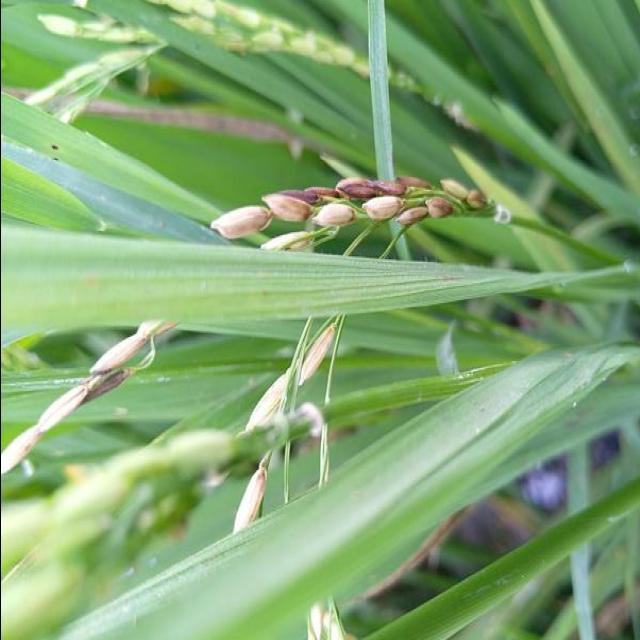Panicle Blight: (80, 367, 136, 404), (210, 207, 268, 239), (395, 198, 459, 225), (440, 178, 488, 211), (263, 195, 310, 222), (361, 195, 406, 222), (314, 201, 358, 227), (277, 187, 340, 204), (334, 178, 381, 200), (370, 178, 406, 195), (394, 177, 433, 190)
